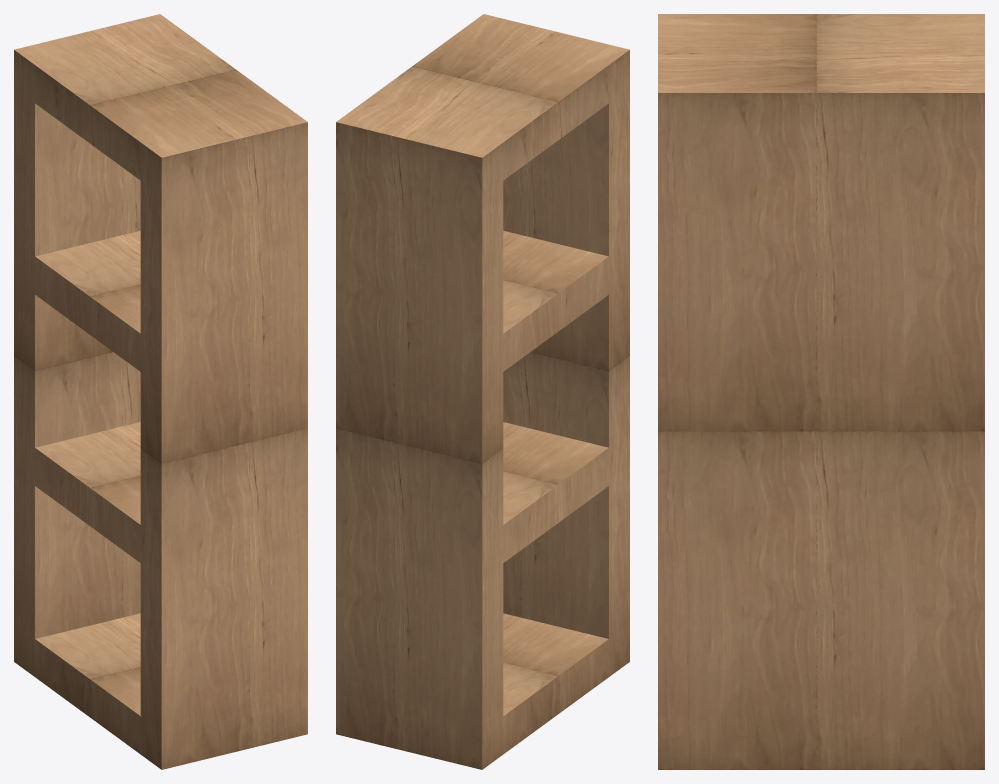
File: Bookcase.fbx
3 views of the same model, side by side, from view 1: azimuth 30°, elevation 25°; view 2: azimuth 150°, elevation 25°; view 3: azimuth 270°, elevation 25° (orthographic). The views are drawn at different scales.
Parts seen in each view (by area): view 1: block (×139); view 2: block (×139); view 3: block (×133).
Part boxes in pixels (left/top/right/bottom): block (×139): left=14, top=14, right=307, bottom=769; block (×139): left=336, top=14, right=629, bottom=769; block (×133): left=658, top=14, right=984, bottom=769.
Size of the model in its own units: 5 by 20 by 8.75.
Materials: 1 (1 with a texture image).
